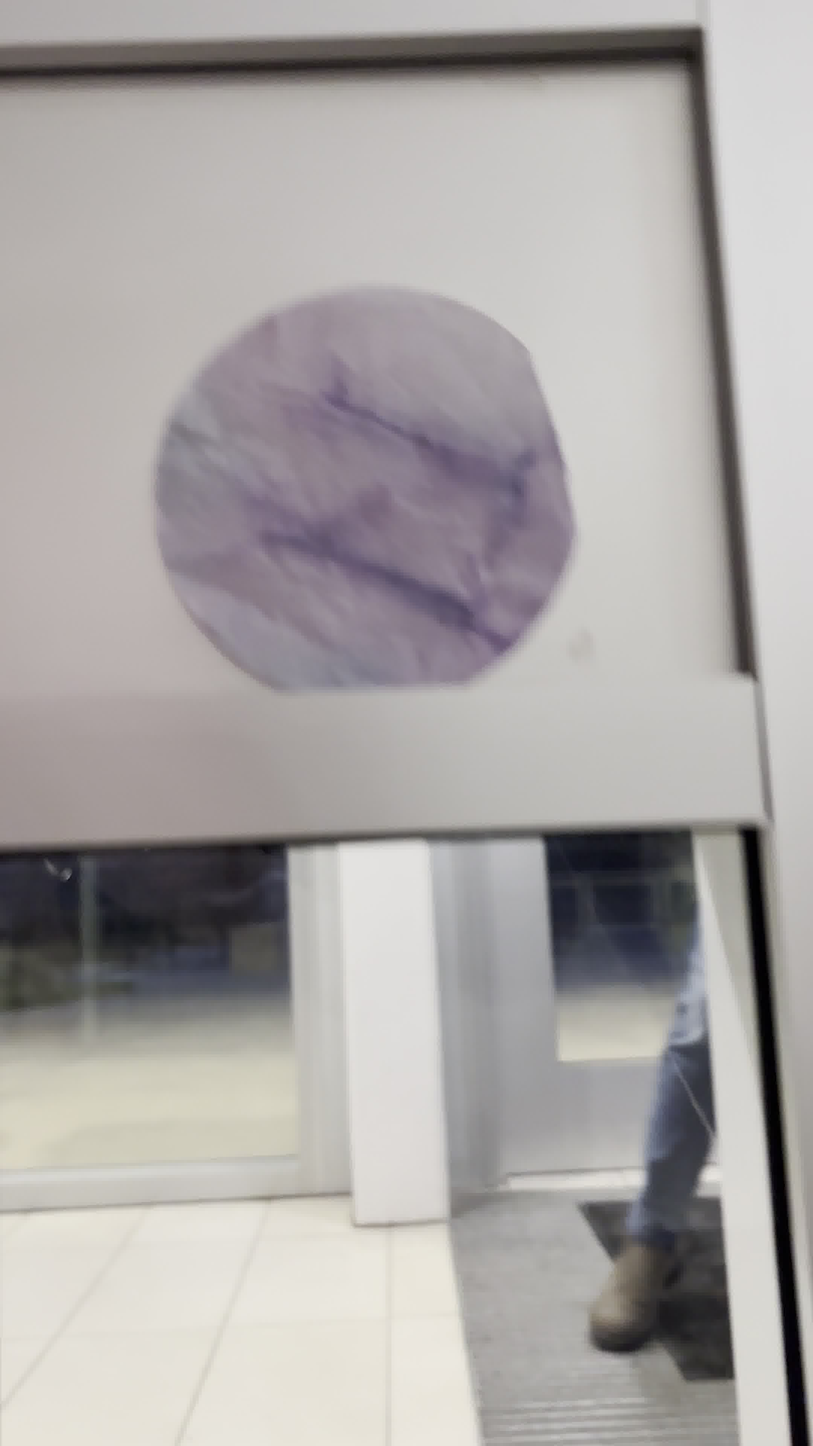Target: (138, 271, 590, 709)
